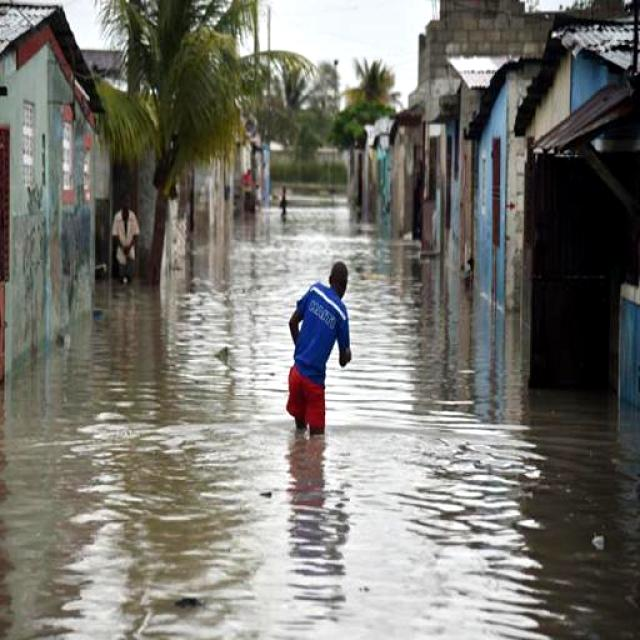civilian: (280, 250, 365, 462), (107, 185, 151, 304)
